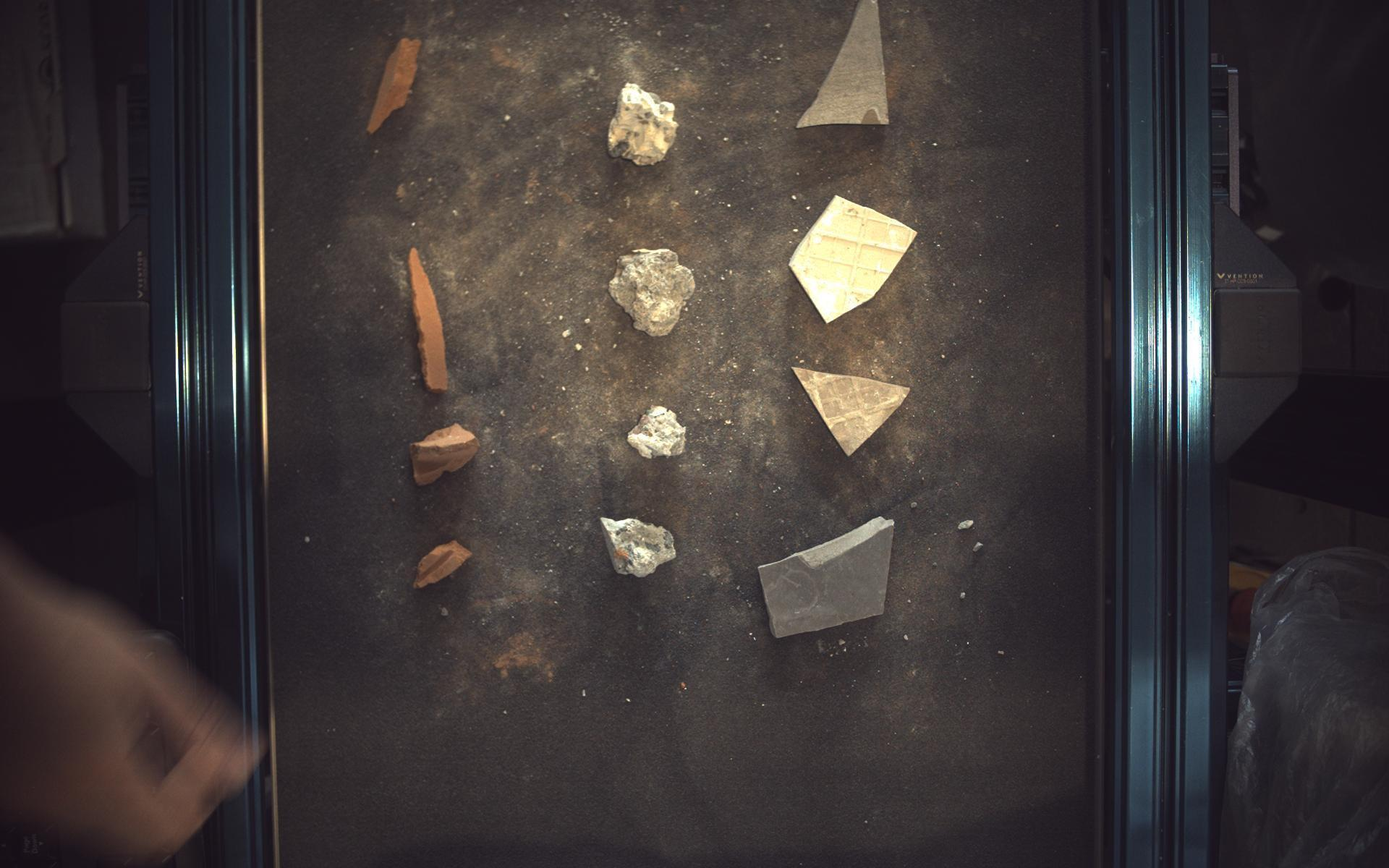brick: (408, 247, 448, 393), (367, 38, 420, 132), (409, 424, 480, 486), (413, 540, 472, 590)
concrete: (610, 248, 695, 336), (609, 82, 679, 164), (602, 518, 677, 578), (628, 406, 686, 459)
tile: (760, 518, 895, 639), (791, 195, 918, 323), (799, 1, 891, 127), (795, 367, 912, 456)
